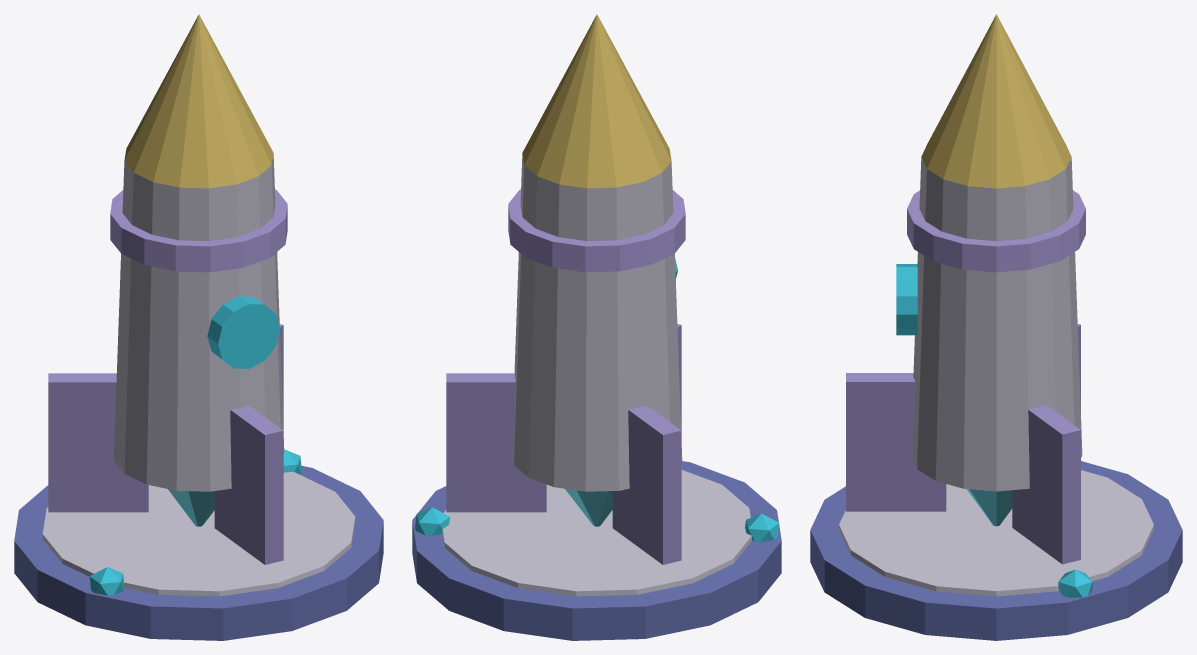
Rendered from plot_skin_space.fbx.
3 views of the same model, side by side, from view 1: azimuth 30°, elevation 25°; view 2: azimuth 150°, elevation 25°; view 3: azimuth 270°, elevation 25° (orthographic).
Visible parts, largest first — view 1: plot_skin_space; view 2: plot_skin_space; view 3: plot_skin_space.
Part boxes in pixels (x1,y1,x2,y2): plot_skin_space: (14,14,383,640); plot_skin_space: (412,14,781,640); plot_skin_space: (810,14,1182,640).
Bounding box in the file's own units: 4.42 × 7.18 × 4.42.
